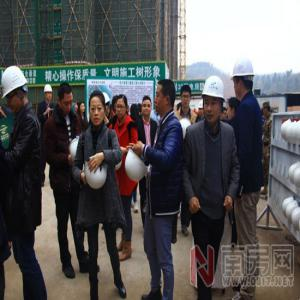none: (154, 79, 177, 119), (57, 81, 75, 117), (89, 90, 106, 128), (180, 85, 193, 111), (115, 95, 128, 120), (141, 94, 153, 120), (79, 102, 86, 116)
white: (2, 64, 31, 115), (202, 76, 228, 126), (232, 56, 256, 102), (44, 83, 53, 102)
